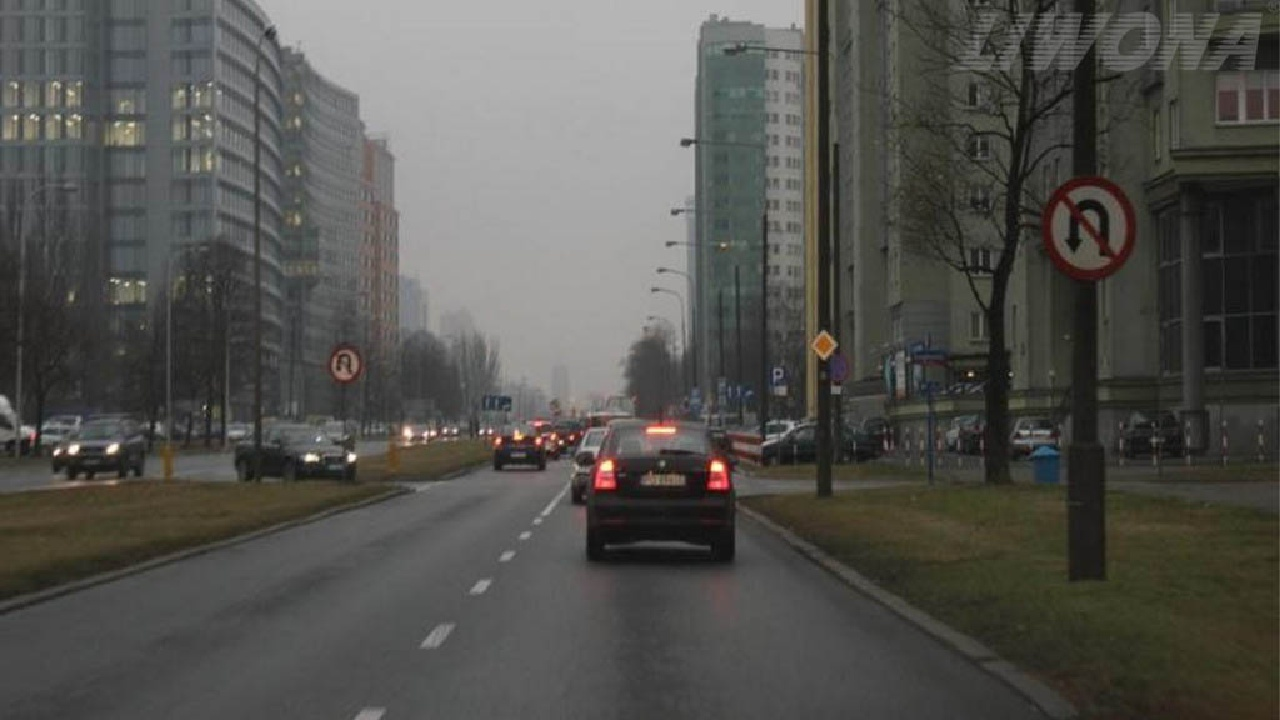B23: (1041, 177, 1138, 279), (327, 346, 362, 383)
D1: (811, 329, 839, 361)
